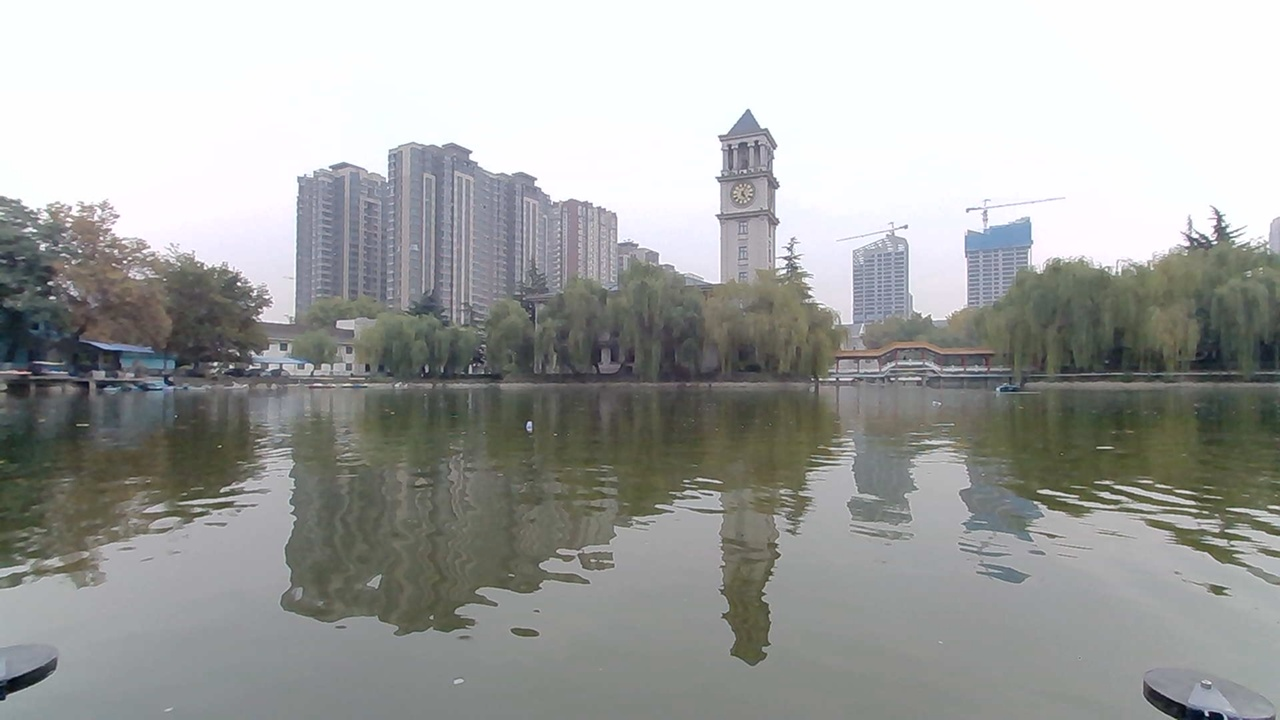bottle: (507, 408, 559, 440), (920, 391, 952, 410)
